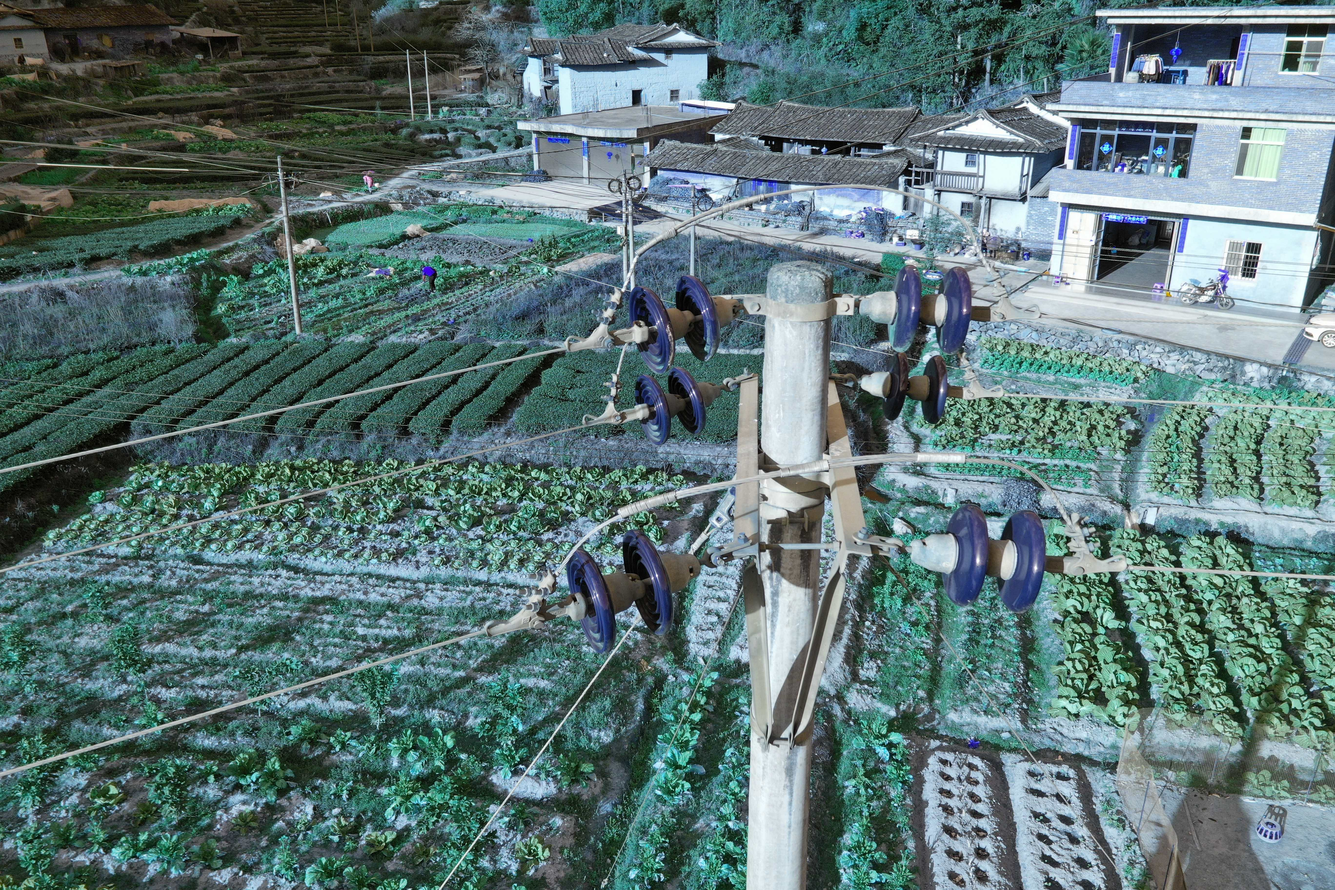severe_soiling_no_discharge_whole: (560, 529, 703, 660), (630, 364, 722, 448)
